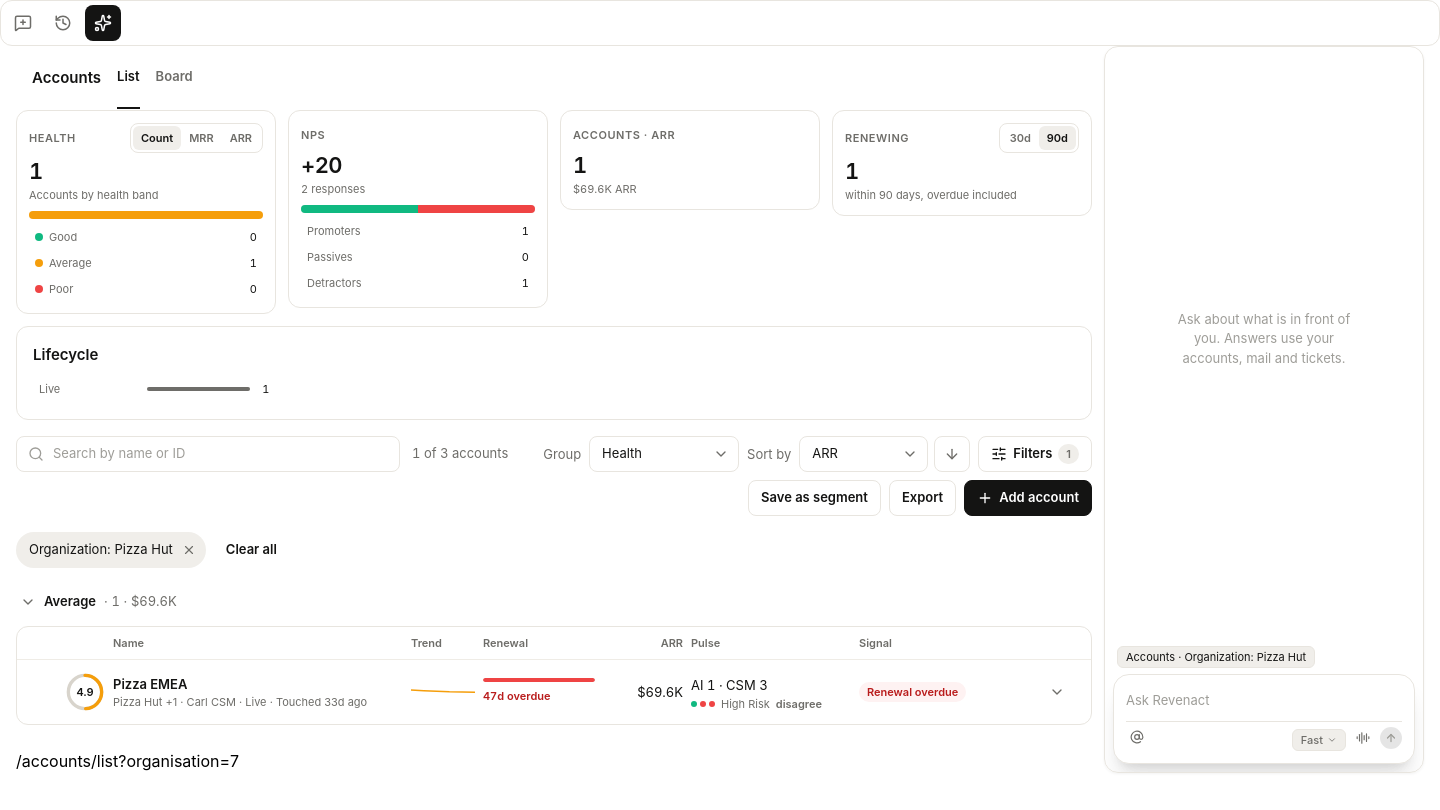
Test case: Ask Revenact on the Accounts List and Board › refuses an organisation filter the asker cannot open, with no Retry
The image size is (1440, 810).
Expected: the link "Pizza EMEA" is shown, [113,674,187,694]
In the field with placeholder "Ask Revenact": (1264, 701) [1126,689,1402,712], type "Who is at risk?"
Then press Enter
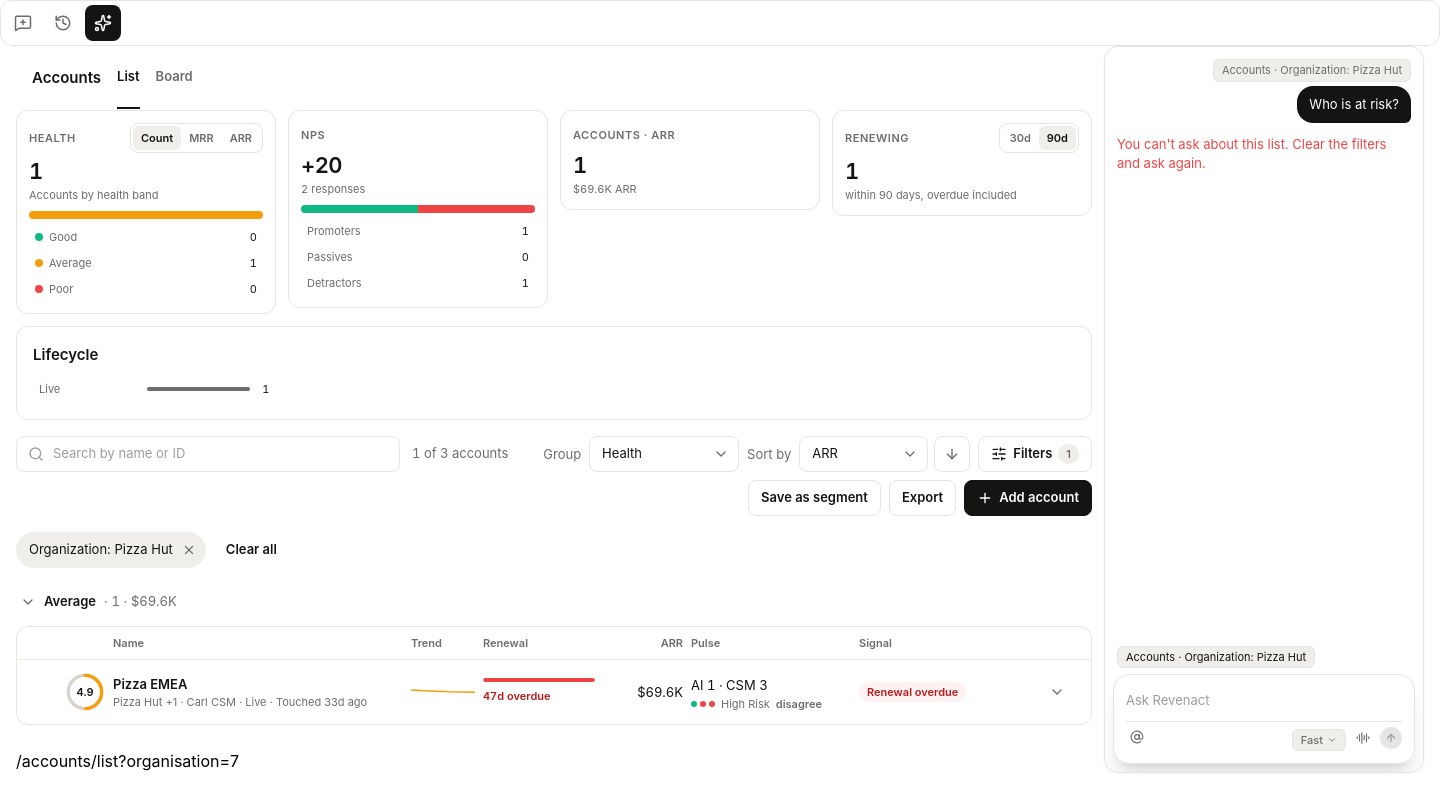
Result: the message "You can't ask about this list. Clear the filters and ask again." is shown at [1117,135,1411,174]
